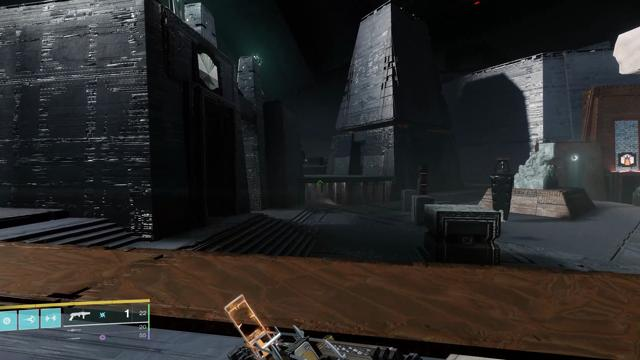commune: (198, 53, 218, 90)
worship: (621, 154, 634, 165)
